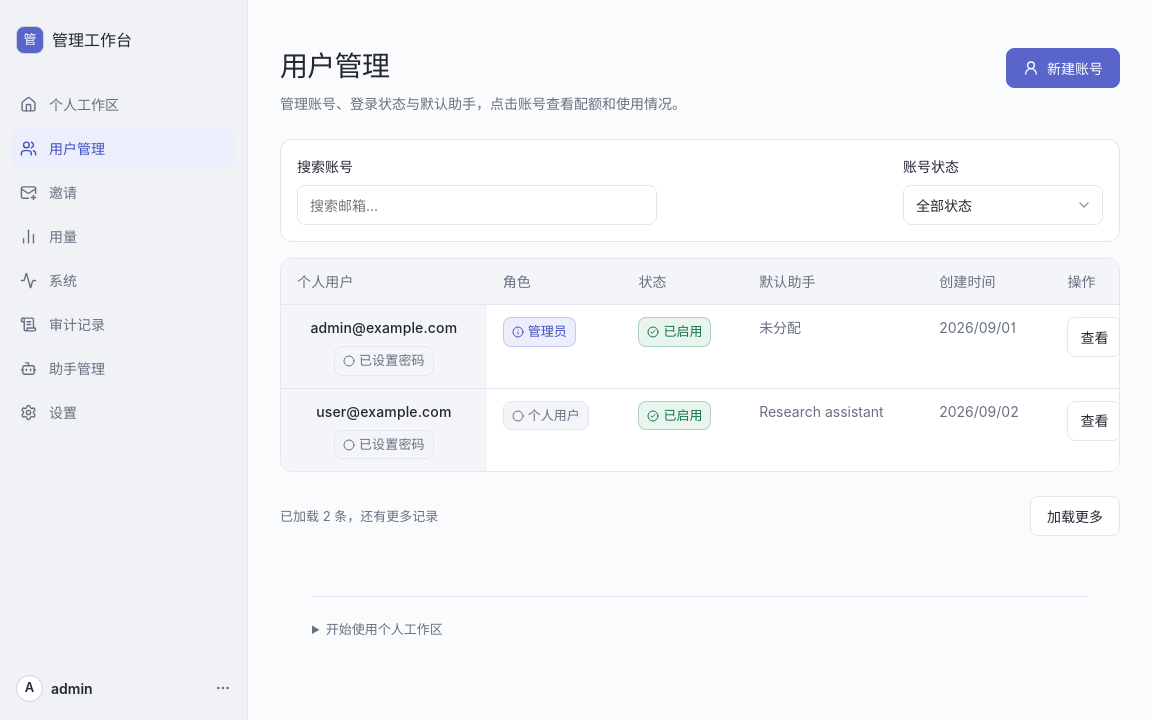
Scenario: admin workbench resilience › retries failed account pagination without losing loaded rows
Expected: the link "user@example.com" is shown, [316,401,452,422]
Click the button "加载更多" at [1075, 516], box [1030,496,1120,536]
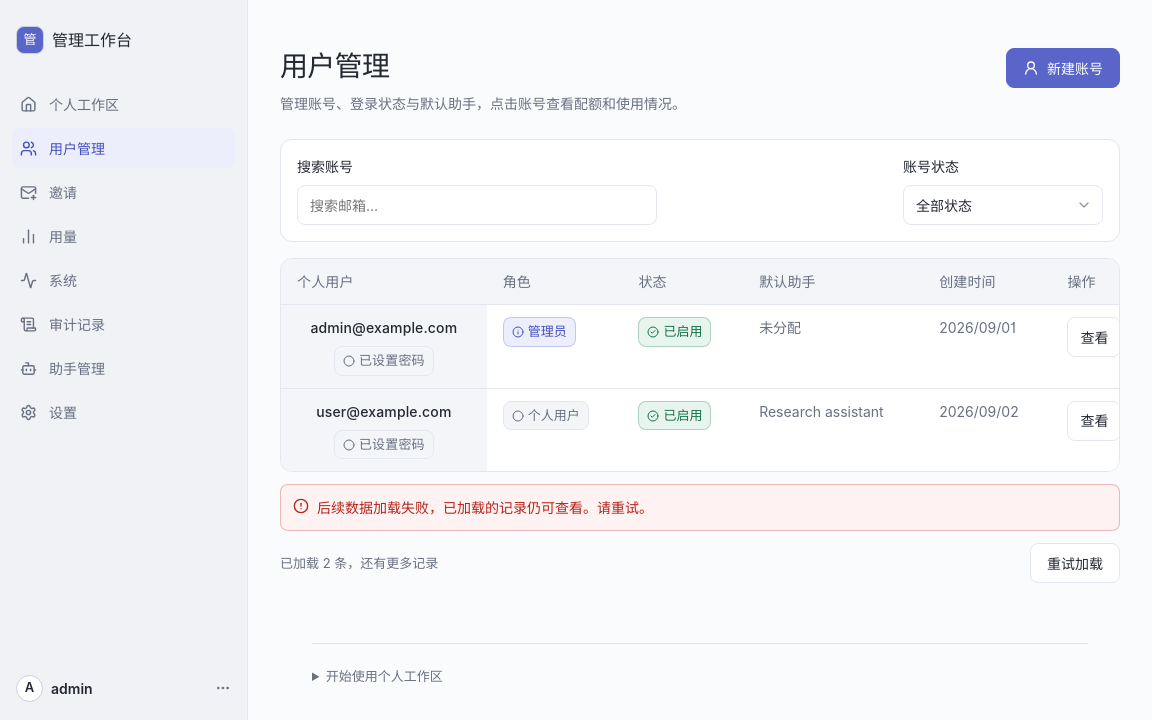
Expected: the link "user@example.com" is shown, [316,401,452,422]
Expected: the message "后续数据加载失败，已加载的记录仍可查看。请重试。" is shown, [280,484,1120,532]
Click the button "重试加载" at [1075, 564], box [1030,544,1120,584]
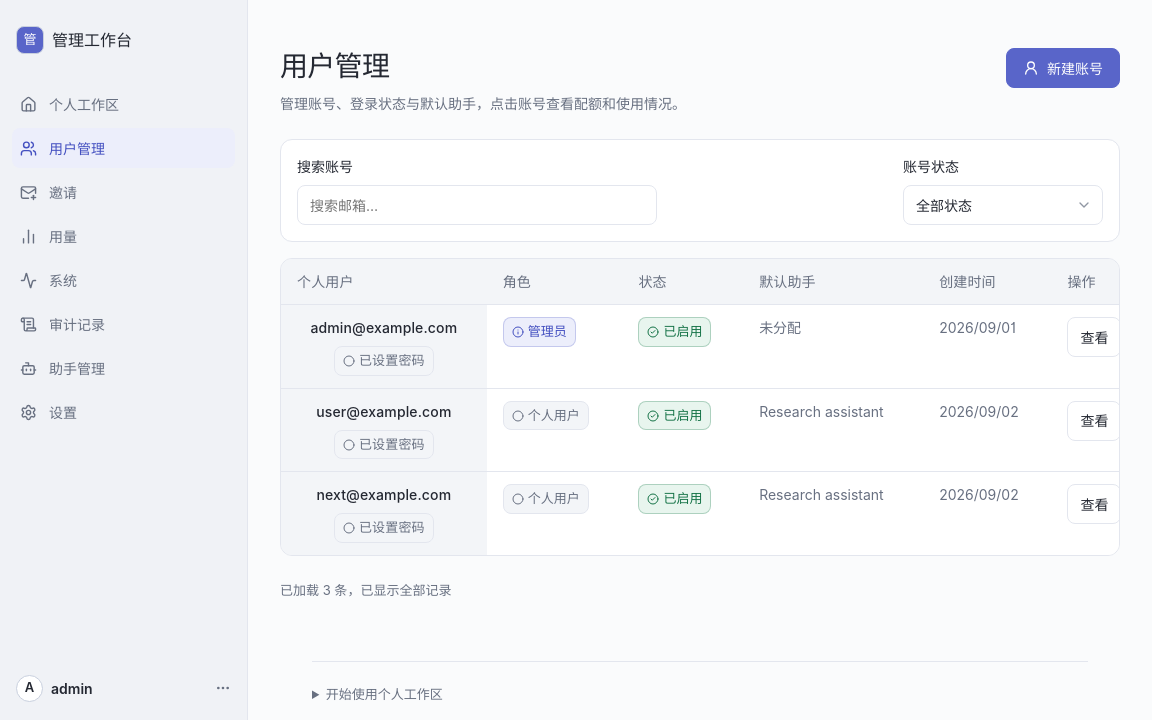
Expected: the number of links "user@example.com" is 1, [316,401,452,422]
Expected: the link "next@example.com" is shown, [316,484,451,506]
